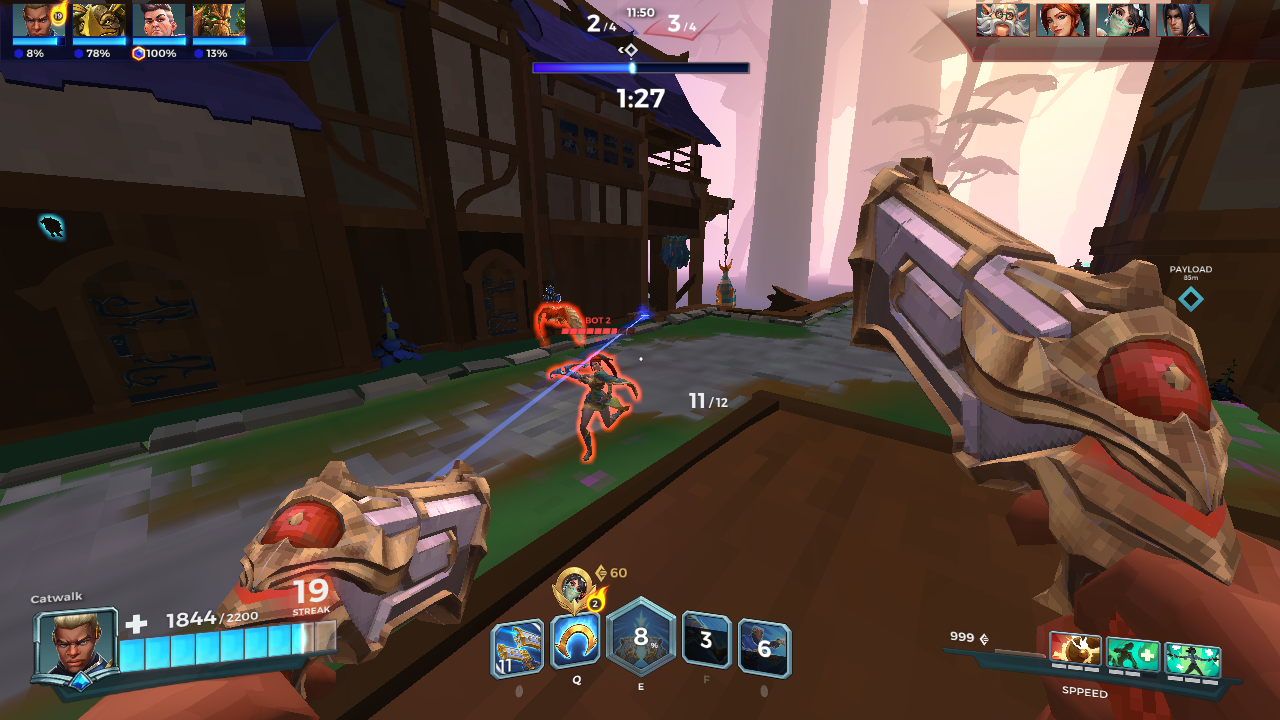model: (557, 348, 633, 472)
